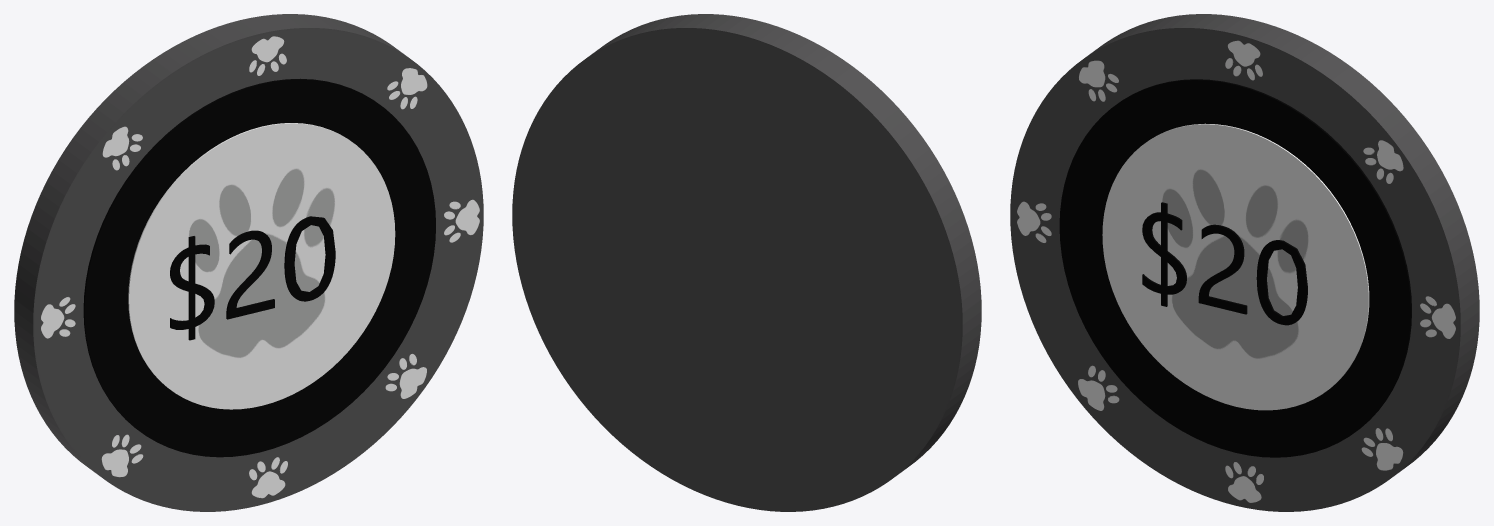
The model's file is Grey.fbx.
3 views of the same model, side by side, from view 1: azimuth 30°, elevation 25°; view 2: azimuth 150°, elevation 25°; view 3: azimuth 330°, elevation 25° (orthographic).
Parts seen in each view (by area): view 1: root (×2), node_id4, node_id126, node_id102 (×2), node_id99 (×2), node_id105 (×2), node_id108 (×2); view 2: node_id4; view 3: root (×2), node_id4, node_id126, node_id105 (×2), node_id108 (×2), node_id102 (×2), node_id99 (×2).
Boxes of the visible parts, <box> form: root (×2): <box>83,78,435,457</box>; node_id4: <box>14,14,483,511</box>; node_id126: <box>170,216,335,340</box>; node_id102 (×2): <box>41,199,479,338</box>; node_id99 (×2): <box>249,36,287,498</box>; node_id105 (×2): <box>102,126,426,398</box>; node_id108 (×2): <box>101,68,427,477</box>; node_id4: <box>512,14,981,511</box>; root (×2): <box>1059,79,1411,457</box>; node_id4: <box>1010,14,1479,511</box>; node_id126: <box>1142,202,1307,325</box>; node_id105 (×2): <box>1079,60,1403,470</box>; node_id108 (×2): <box>1078,140,1403,410</box>; node_id102 (×2): <box>1017,201,1455,338</box>; node_id99 (×2): <box>1225,40,1263,502</box>.
Size of the model in its own units: 0.512 by 0.512 by 0.043.
12 materials, 11 textured.
